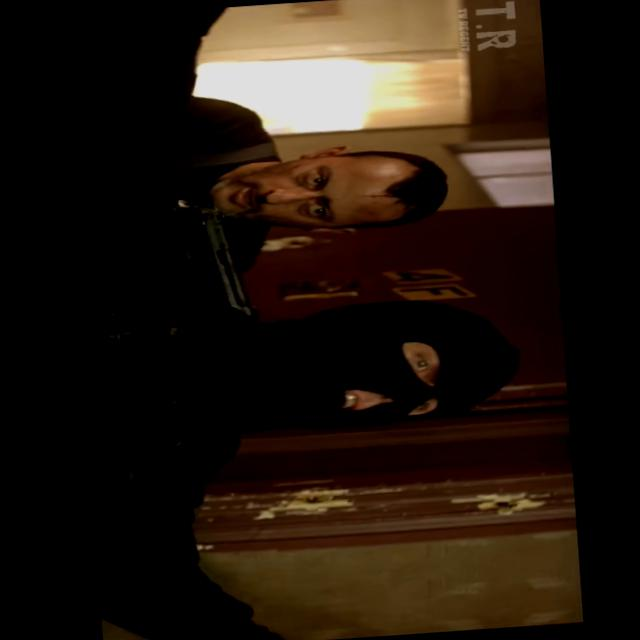handgun: (111, 191, 275, 356)
